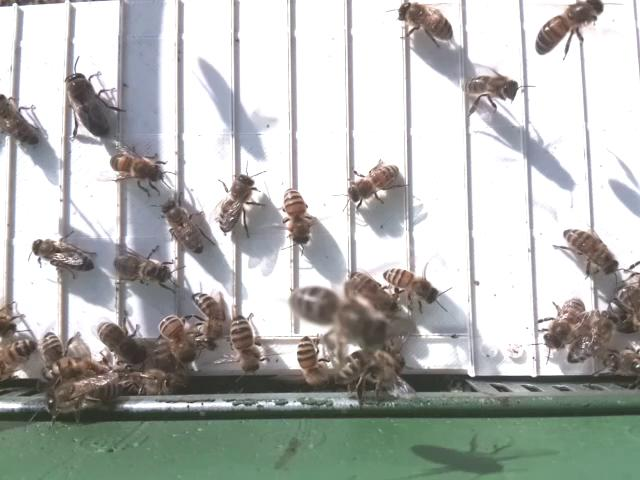Drone: (60, 67, 113, 140)
Worker: (532, 0, 601, 57), (26, 233, 97, 280), (560, 225, 623, 276), (159, 195, 208, 256), (540, 294, 588, 355), (567, 311, 620, 366), (395, 0, 456, 45), (214, 172, 256, 236), (380, 263, 444, 305), (112, 247, 179, 287), (342, 163, 404, 206), (227, 311, 268, 376), (155, 311, 200, 366), (279, 184, 315, 249), (462, 70, 521, 109), (106, 149, 168, 185), (191, 290, 225, 351), (294, 334, 329, 390)
